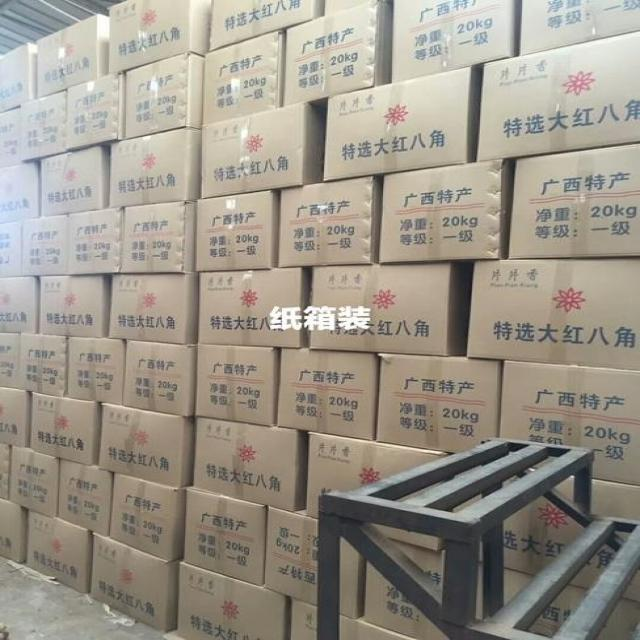box: (476, 30, 640, 162), (468, 258, 640, 371), (324, 66, 481, 181), (498, 360, 640, 486), (508, 142, 640, 258), (308, 263, 462, 356), (378, 160, 514, 263), (376, 354, 502, 454), (306, 431, 450, 517), (281, 0, 391, 109), (201, 102, 325, 197), (190, 416, 311, 512), (390, 0, 515, 84), (278, 348, 379, 442), (279, 175, 382, 266), (197, 266, 311, 348), (89, 532, 176, 633), (199, 26, 286, 126), (174, 562, 285, 640), (97, 403, 194, 487), (184, 487, 265, 587), (108, 0, 214, 74), (109, 128, 201, 208), (195, 187, 281, 271), (194, 344, 281, 426), (518, 0, 640, 58), (110, 474, 189, 563), (126, 52, 205, 140), (502, 496, 585, 577), (361, 566, 449, 640), (109, 272, 197, 344), (37, 9, 108, 97), (210, 0, 328, 51), (25, 509, 94, 593), (26, 392, 102, 468), (122, 340, 195, 417), (119, 201, 195, 273), (262, 509, 317, 606), (39, 145, 109, 217), (66, 70, 125, 153), (39, 274, 111, 338), (58, 460, 115, 537), (66, 336, 126, 406), (8, 446, 63, 519), (67, 208, 123, 275), (21, 90, 66, 163), (17, 333, 67, 397), (20, 214, 68, 276), (529, 586, 588, 635), (0, 43, 37, 116), (0, 160, 41, 225), (393, 540, 446, 589), (0, 277, 41, 334), (338, 539, 367, 619), (567, 544, 616, 590), (591, 478, 640, 522), (370, 525, 449, 550), (0, 387, 31, 450), (340, 616, 414, 640), (599, 597, 640, 640), (1, 499, 28, 562), (0, 104, 21, 169), (0, 220, 22, 277), (504, 568, 535, 606), (290, 598, 316, 640), (0, 333, 18, 389), (619, 570, 640, 602), (0, 444, 10, 501)
